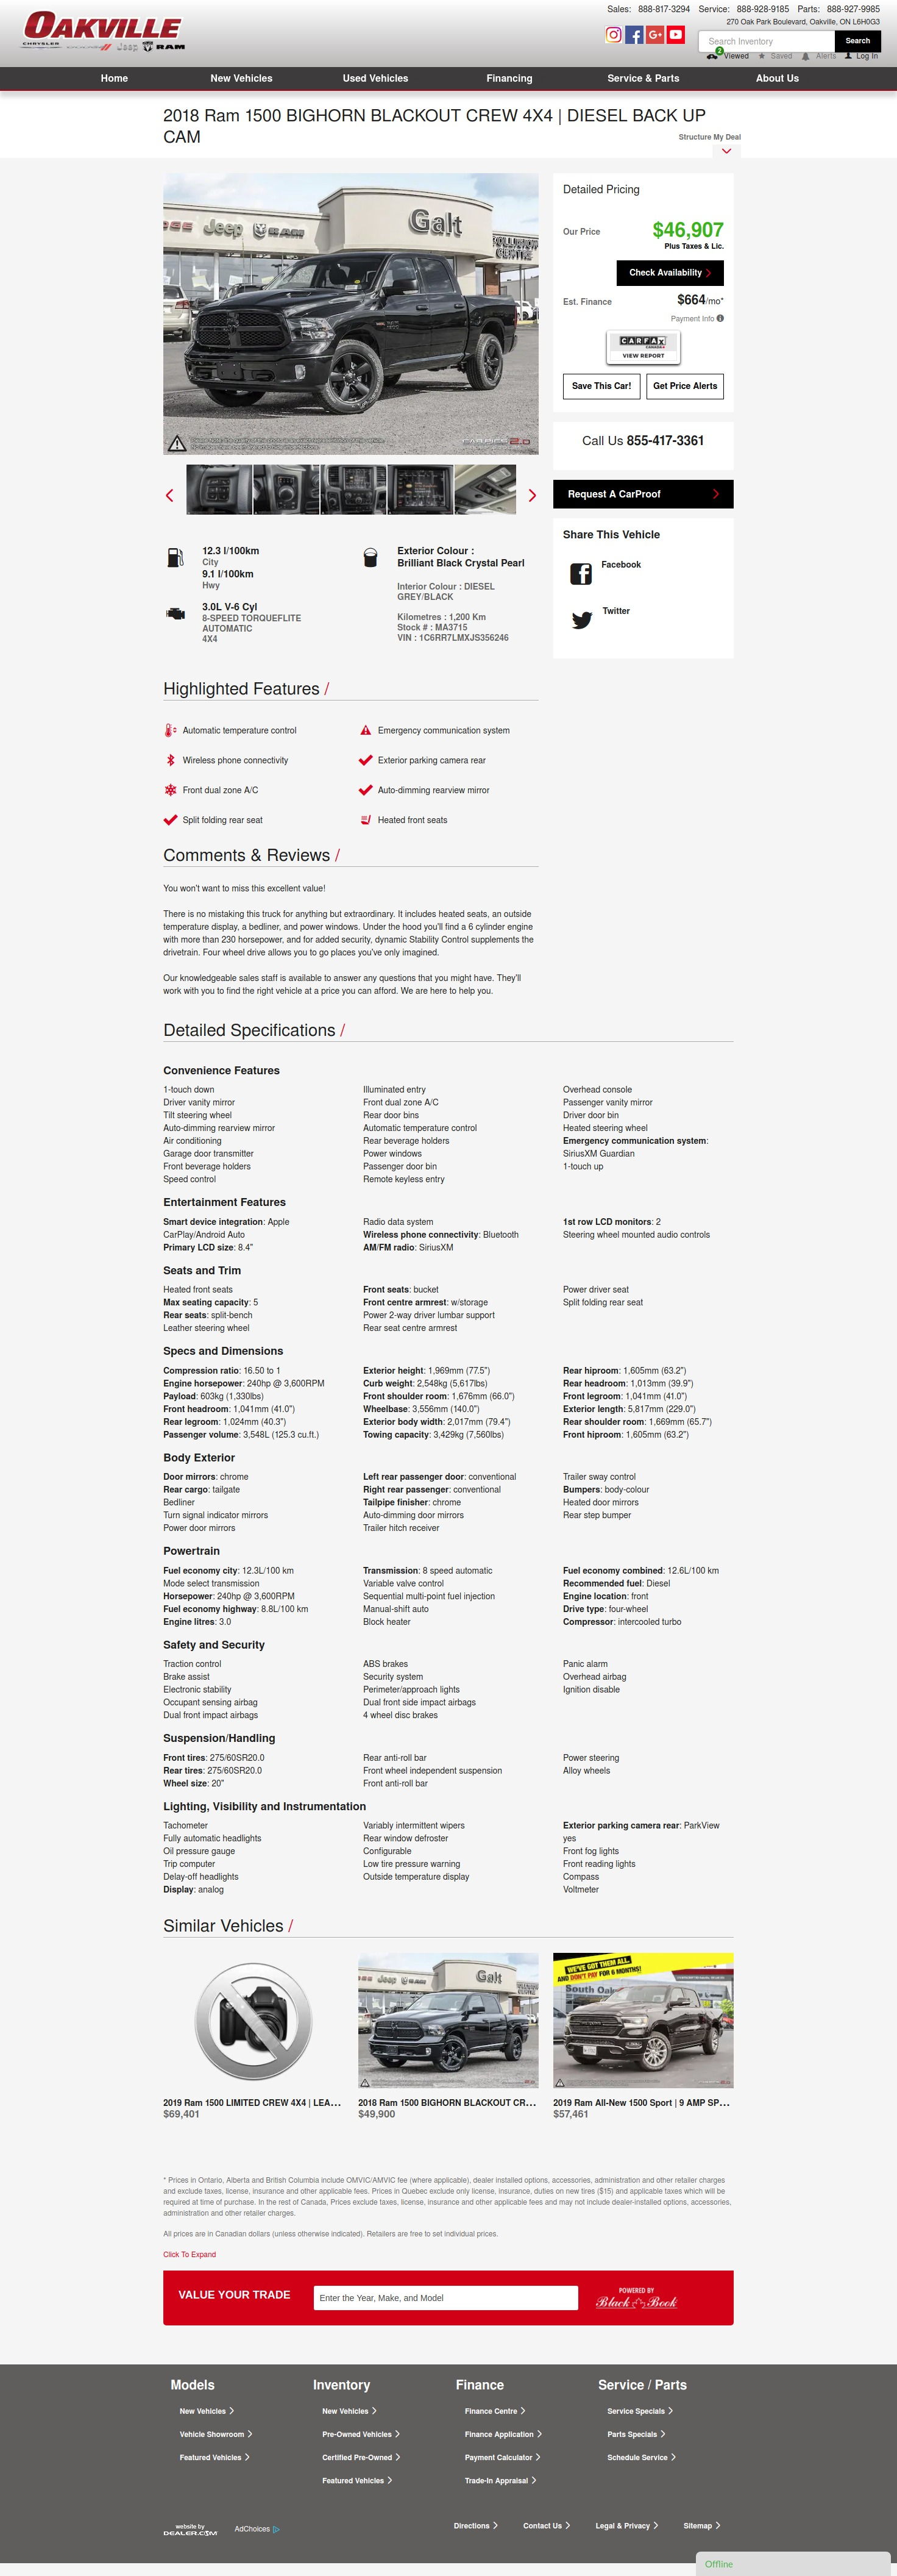car: (527, 488, 539, 503)
